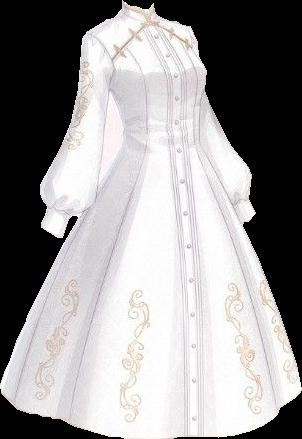Bodice: (86, 0, 206, 140)
Hemline: (0, 384, 301, 438)
Neckline: (108, 19, 194, 62), (121, 0, 157, 11)
Skirt: (0, 139, 301, 438)
Sleeve: (40, 35, 111, 237)
Sleeveline: (84, 31, 113, 90)
